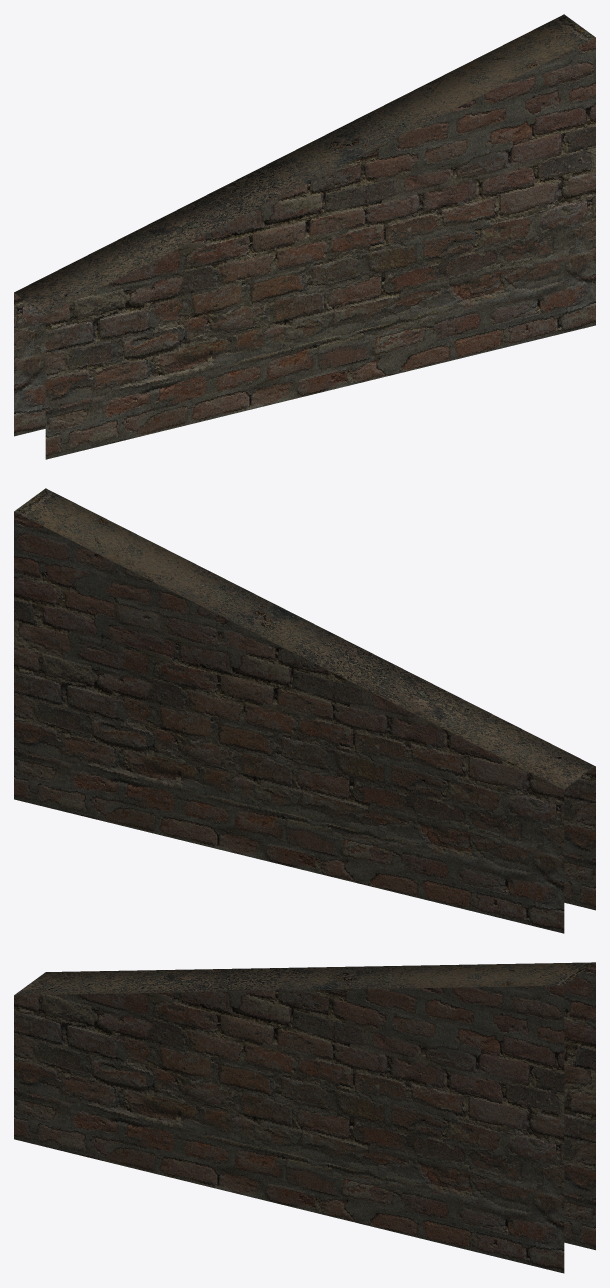
The model's file is wall_top_part_hr_2.glb.
3 views of the same model, one above another, from view 1: azimuth 30°, elevation 25°; view 2: azimuth 150°, elevation 25°; view 3: azimuth 330°, elevation 25° (orthographic).
Visible parts, largest first — view 1: wall_top_part_hr_2; view 2: wall_top_part_hr_2; view 3: wall_top_part_hr_2.
Boxes of the visible parts, x1,y1,x2,y2 form: wall_top_part_hr_2: [14, 14, 595, 459]; wall_top_part_hr_2: [14, 488, 595, 933]; wall_top_part_hr_2: [14, 962, 595, 1273].
Bounding box in the file's own units: 4 × 2 × 0.4.
Materials: 2 (2 with a texture image).
